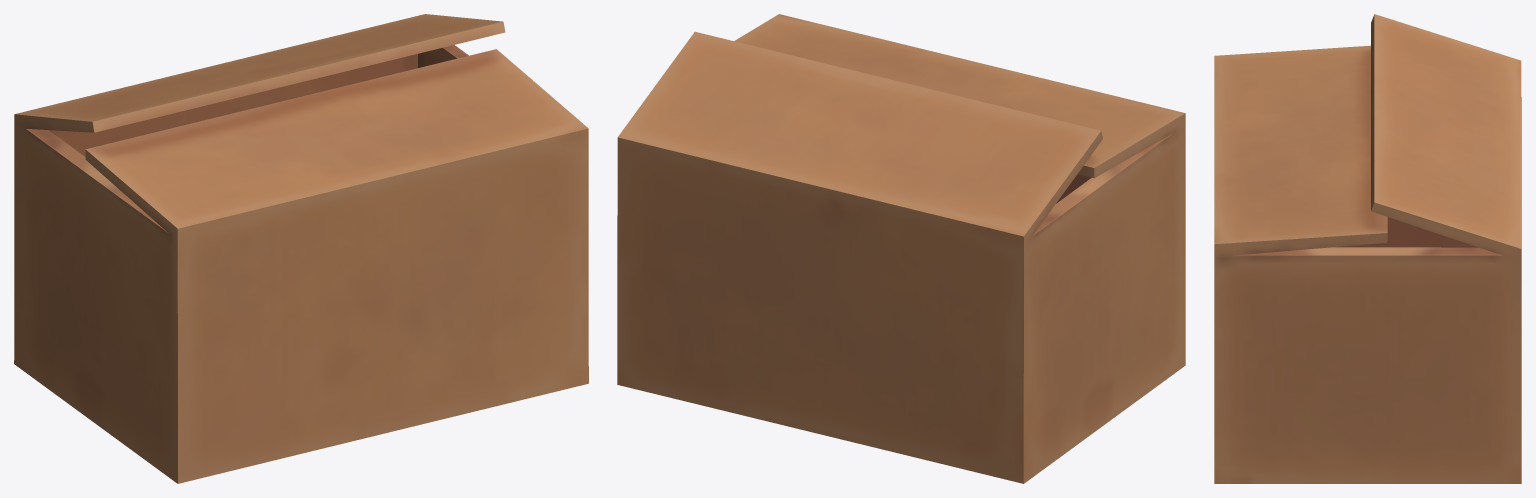
Rendered from Pfb_PaperBox__33.fbx.
3 views of the same model, side by side, from view 1: azimuth 30°, elevation 25°; view 2: azimuth 150°, elevation 25°; view 3: azimuth 270°, elevation 25° (orthographic). The views are drawn at different scales.
Visible parts, largest first — view 1: Mat_PaperBox_01_01; view 2: Mat_PaperBox_01_01; view 3: Mat_PaperBox_01_01.
Part boxes in pixels (<box>): Mat_PaperBox_01_01: <box>14,14,588,483</box>; Mat_PaperBox_01_01: <box>617,14,1185,483</box>; Mat_PaperBox_01_01: <box>1214,14,1521,483</box>.
Size of the model in its own units: 0.8516 by 0.5933 by 0.5874.
Materials: 1 (1 with a texture image).
